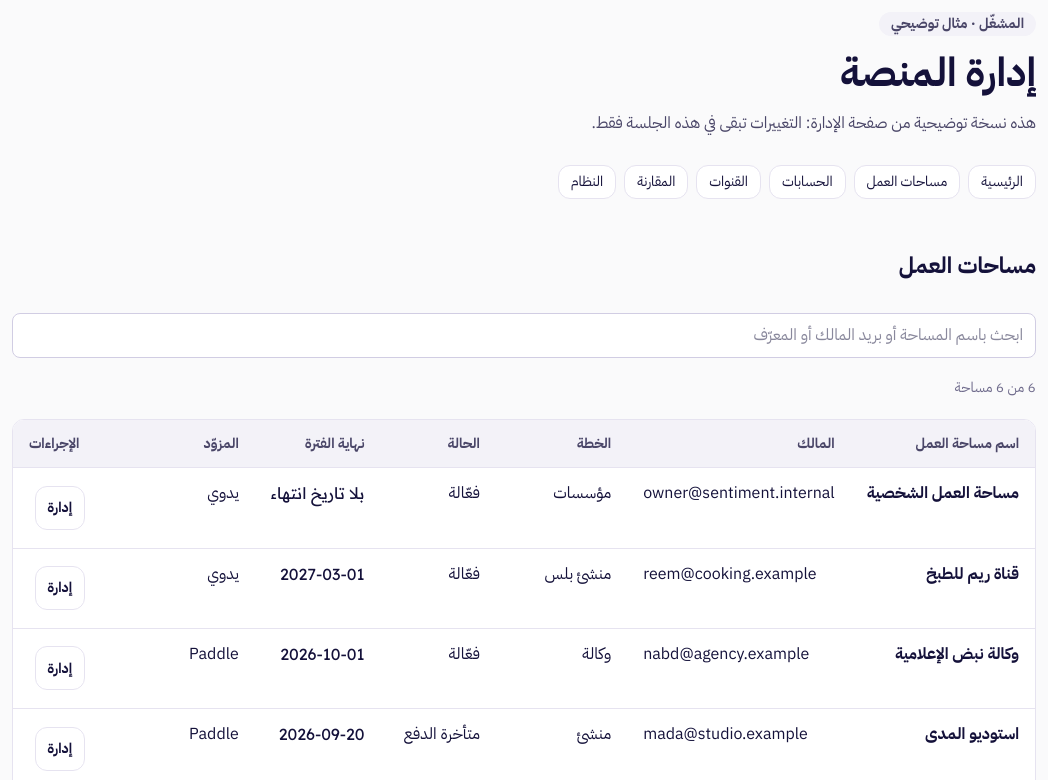
Test case: AdminPage in demo mode › searches by name, by owner email and by id, and says when nothing matches
Type "nabd@" into the search field labelled "ابحث باسم المساحة أو بريد المالك أو المعرّف" at (524, 336), box [12,313,1036,358]
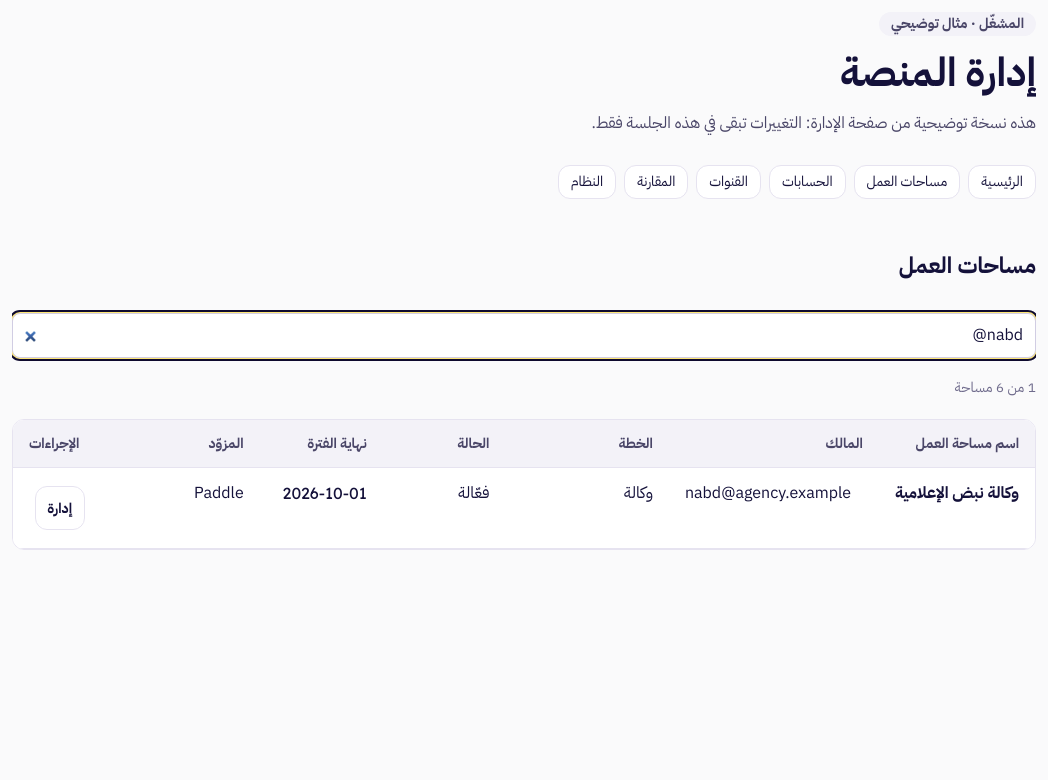
# Folded like every console search: «إستوديو المدي» finds «استوديو المدى».
Replace the text in the search field named "ابحث باسم المساحة أو بريد المالك أو المعرّف" with "إستوديو المدي" at (524, 336), box [12,313,1036,358]
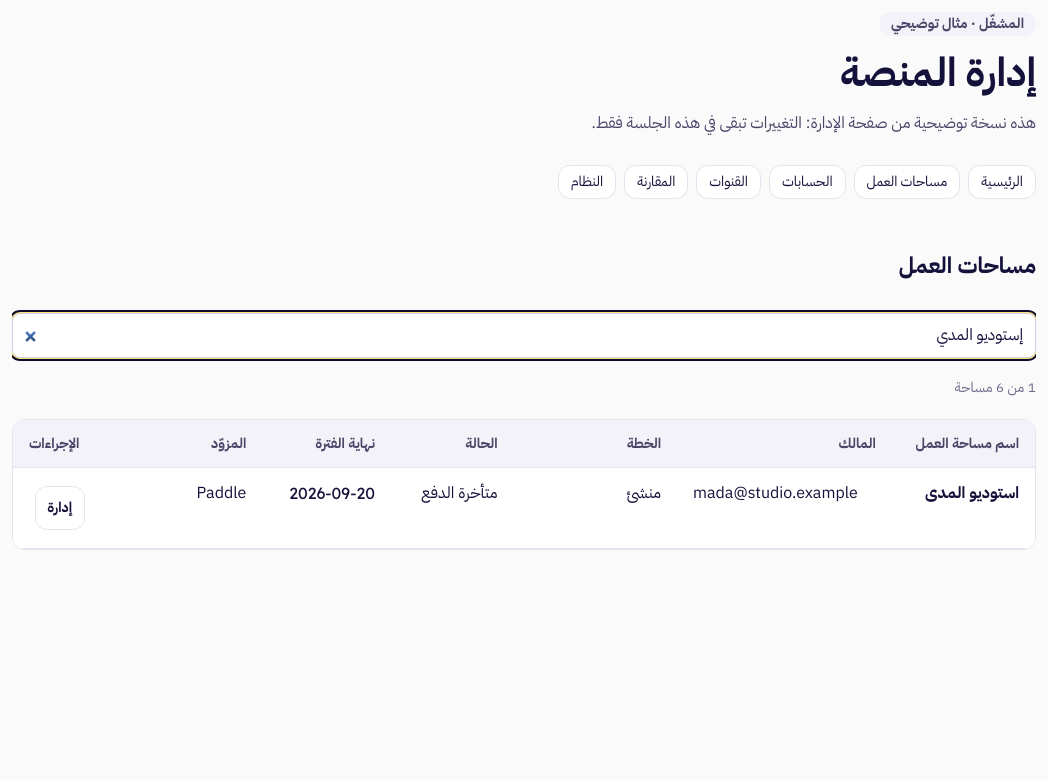
Replace the text in the search field named "ابحث باسم المساحة أو بريد المالك أو المعرّف" with "000000000005" at (524, 336), box [12,313,1036,358]
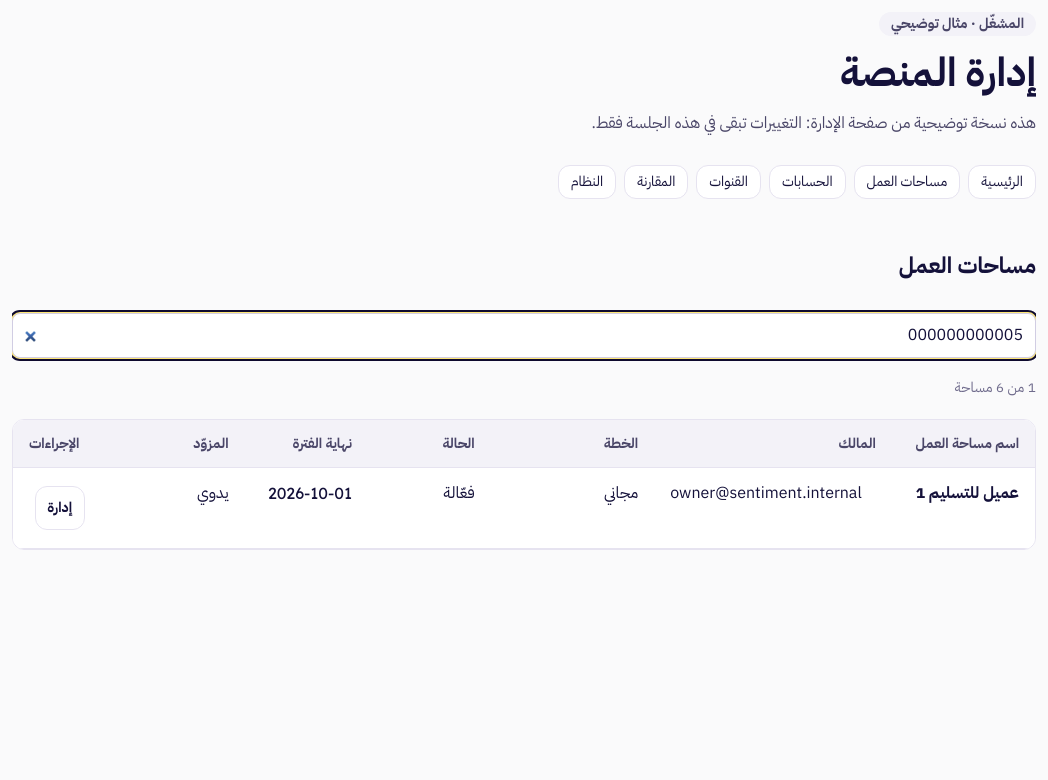
Replace the text in the search field named "ابحث باسم المساحة أو بريد المالك أو المعرّف" with "لا شيء بهذا الاسم" at (524, 336), box [12,313,1036,358]
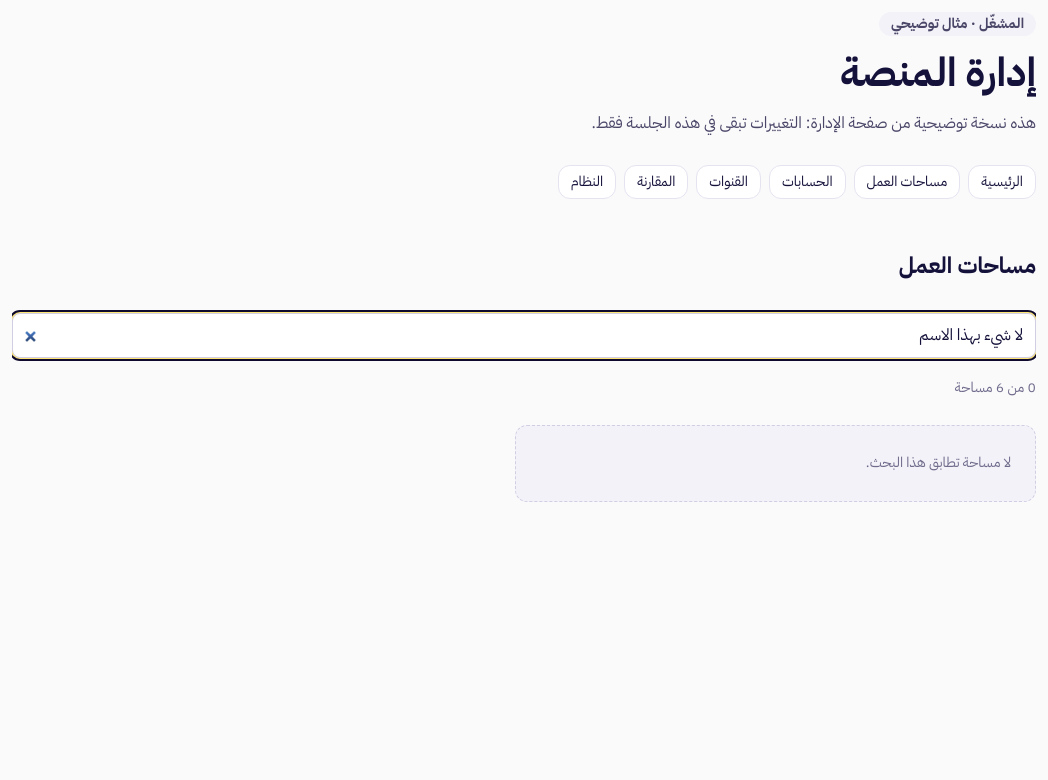
expect the text with test id "admin-workspaces-no-match" reads "لا مساحة تطابق هذا البحث.": met, box [866,452,1011,473]
